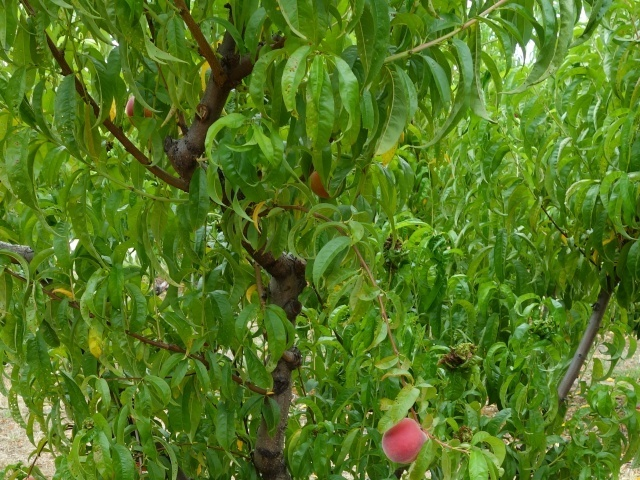peach: (380, 417, 429, 467), (123, 93, 153, 127), (306, 168, 334, 204)
